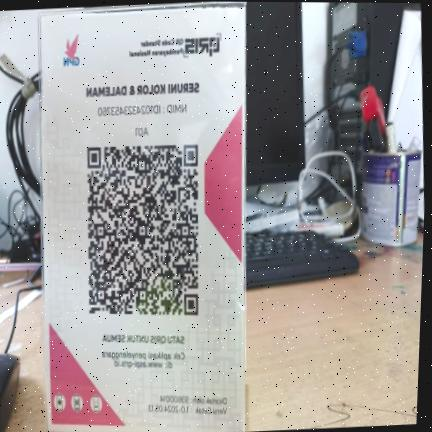Cara Pakai QRIS: (51, 381, 112, 424)
Cek Aplikasi Penyelenggara: (99, 349, 188, 373)
Dicetak Oleh: (158, 393, 229, 406)
Logo GPN: (61, 30, 82, 71)
Logo dan deskripsi QRIS: (124, 29, 223, 63)
Nama Merchant: (82, 79, 202, 101)
National Merchant ID: (95, 102, 190, 121)
QR Code: (85, 142, 202, 320)
Slogan: (99, 329, 187, 347)
Terminal ID: (133, 124, 151, 139)
Versi Cetak: (147, 403, 230, 417)
